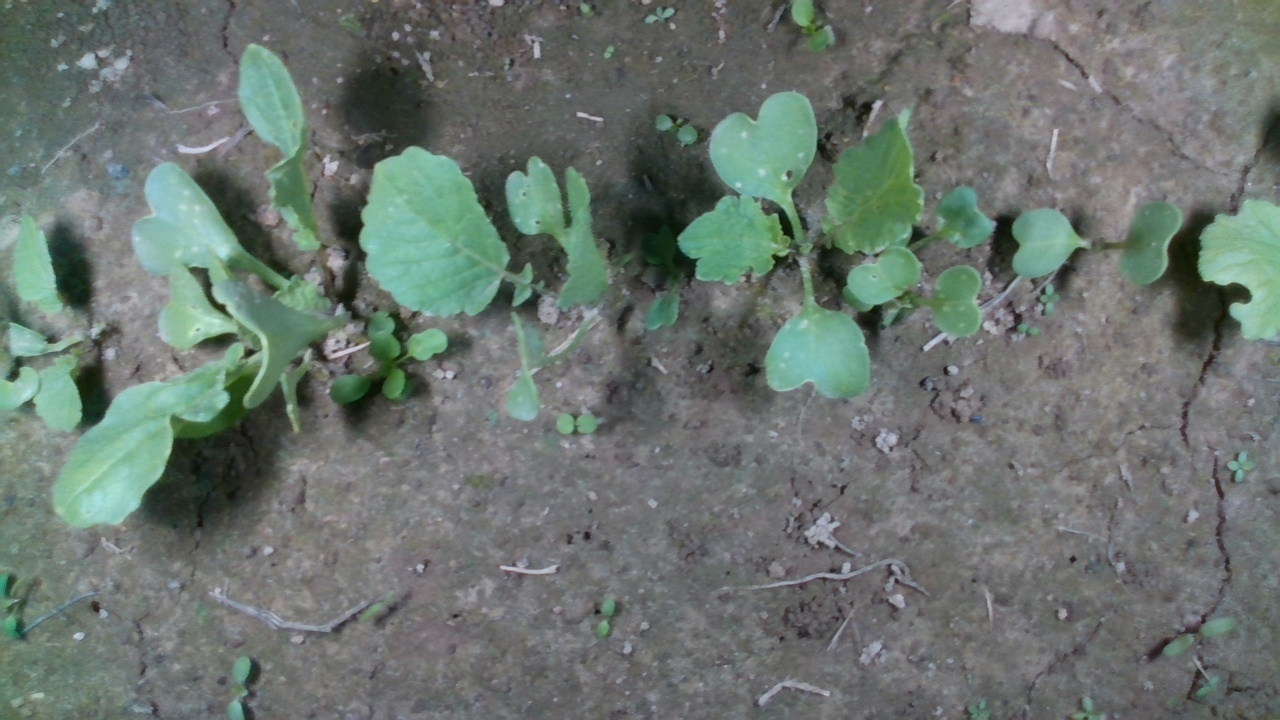weed: (1159, 615, 1240, 657), (653, 111, 699, 145), (1224, 446, 1259, 484), (553, 411, 598, 435), (594, 597, 617, 638), (1037, 281, 1061, 316), (643, 4, 675, 25), (1195, 674, 1220, 698), (1015, 321, 1039, 337), (600, 41, 616, 60)
